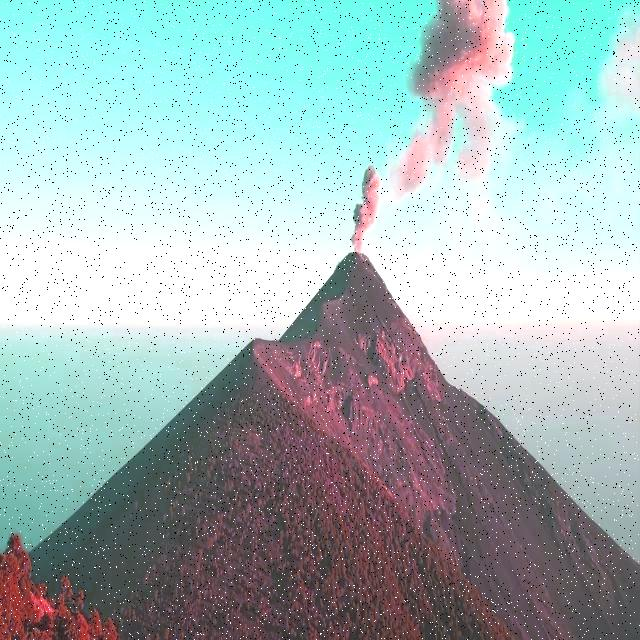Plume: (398, 0, 526, 204), (344, 162, 386, 255)
Summit: (229, 255, 491, 420)
